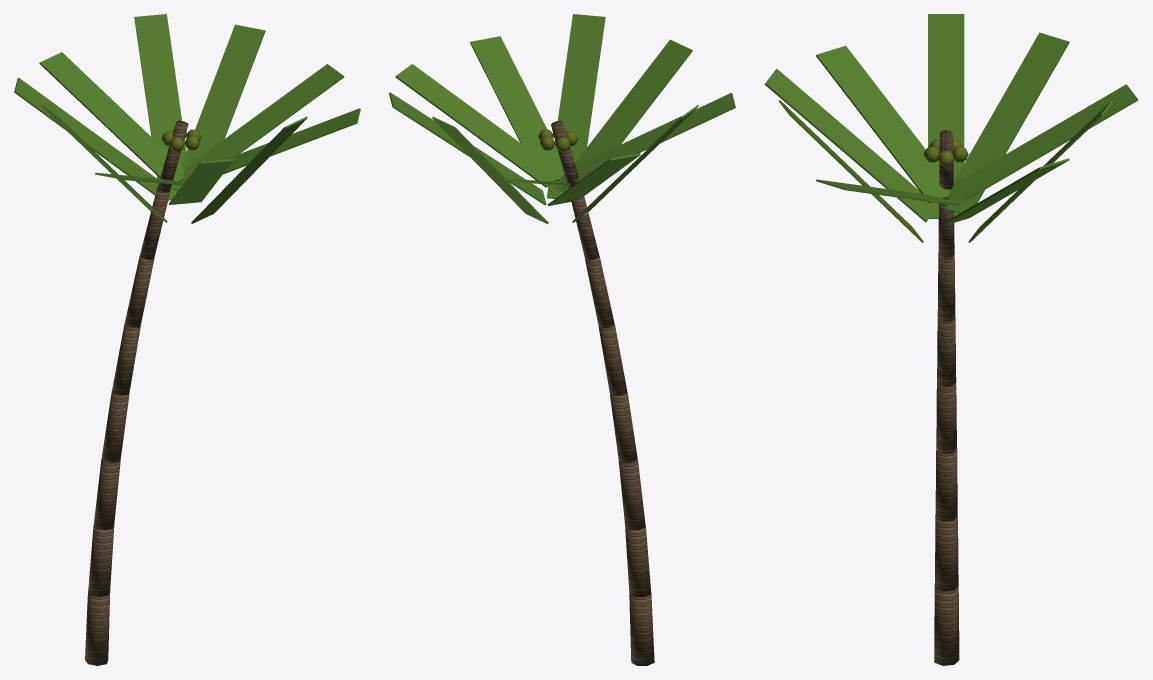
File: palm_coconut.fbx
The picture shows the model from 3 angles, left to right: view 1: azimuth 30°, elevation 25°; view 2: azimuth 150°, elevation 25°; view 3: azimuth 270°, elevation 25°; orthographic projection. The views are drawn at different scales.
Parts seen in each view (by area): view 1: Palm; view 2: Palm; view 3: Palm.
Part boxes in pixels (x1=…): Palm: x1=14, y1=14, x2=360, y2=665; Palm: x1=389, y1=14, x2=735, y2=665; Palm: x1=764, y1=14, x2=1138, y2=665.
Bounding box in the file's own units: 5.52 × 10.32 × 5.63.
